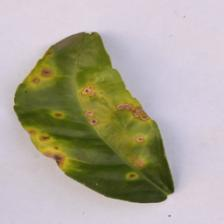canker: (29, 72, 156, 150)
